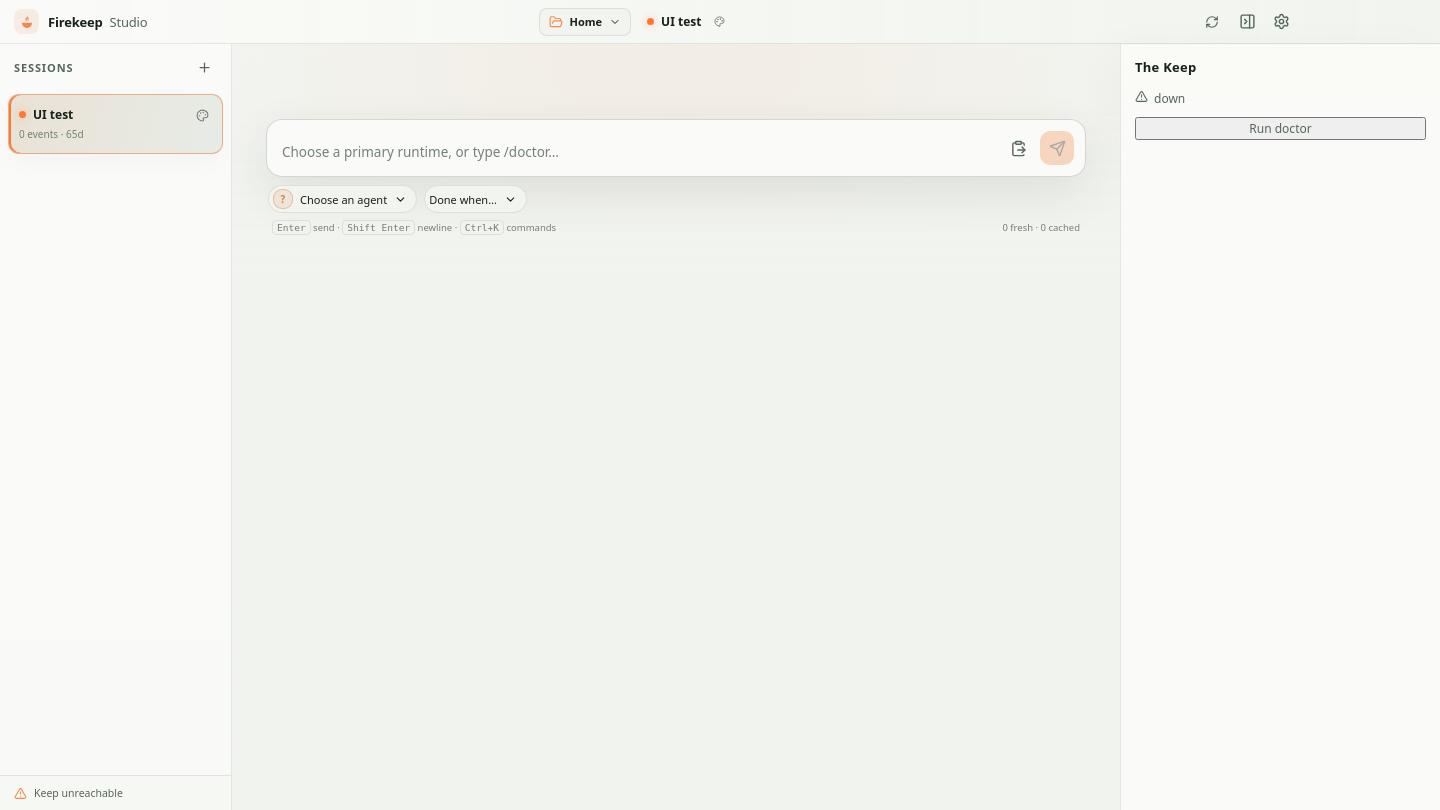
Test: Firekeep Studio renderer › keeps the Keep connection result card across tab switches and reopening, and shows failures as a card
The width and height of the screenshot is (1440, 810).
Click the button "Run doctor" at (1280, 128), box [1135, 117, 1426, 140]
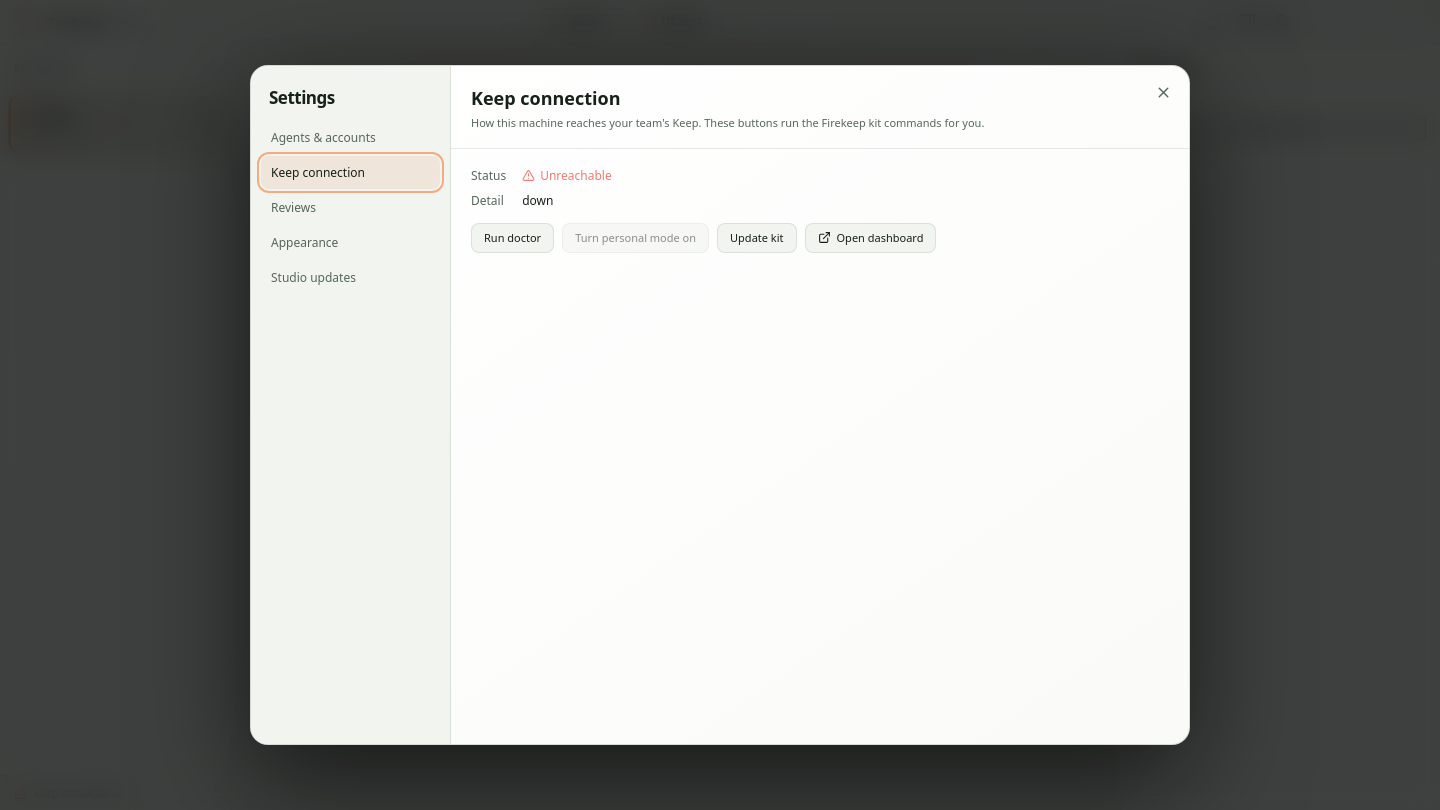
Click the button "Run doctor" at (513, 238), box [471, 222, 554, 252]
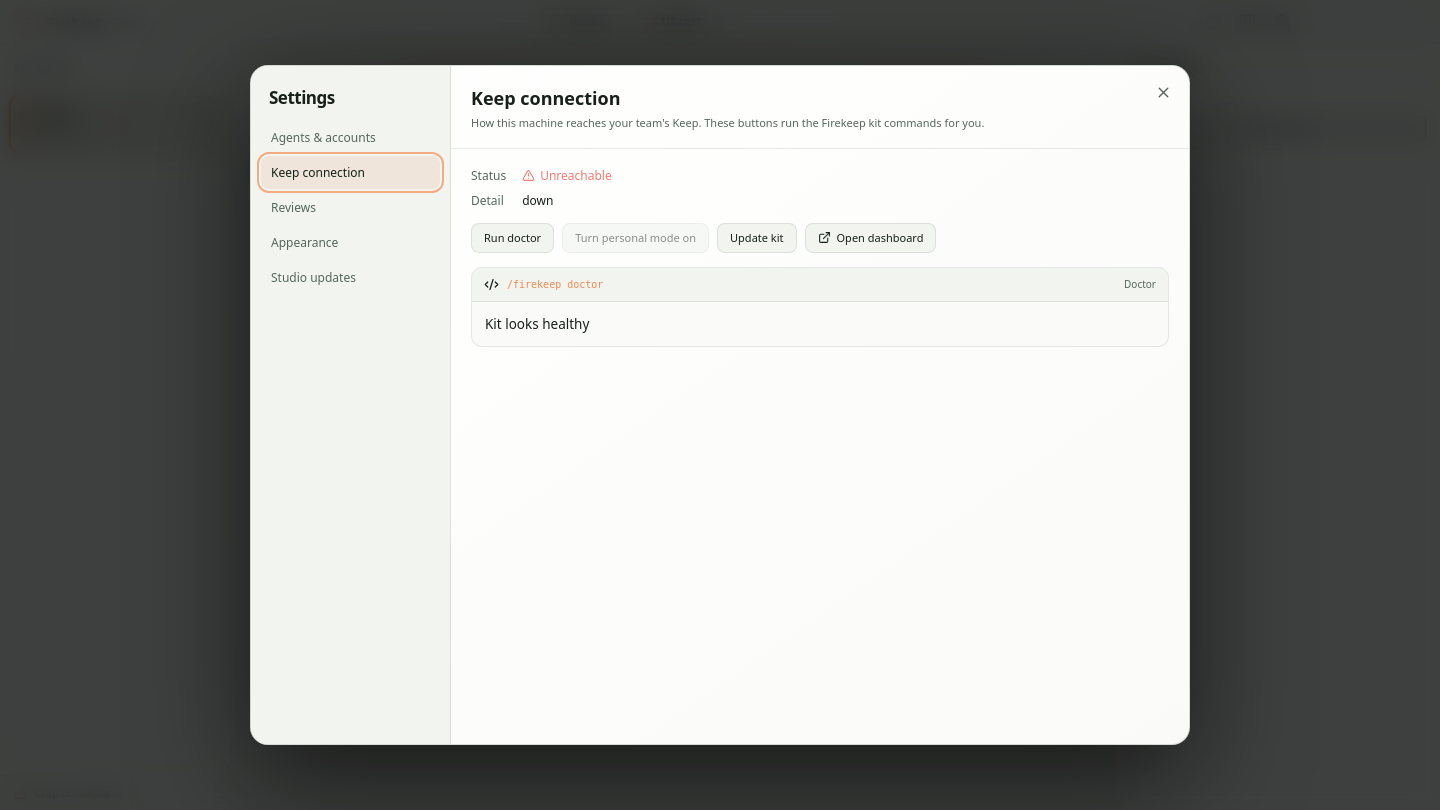
Expected: the text "Kit looks healthy" is shown, [485, 314, 589, 332]
Click the tab "Reviews" at (350, 208), box [261, 191, 440, 224]
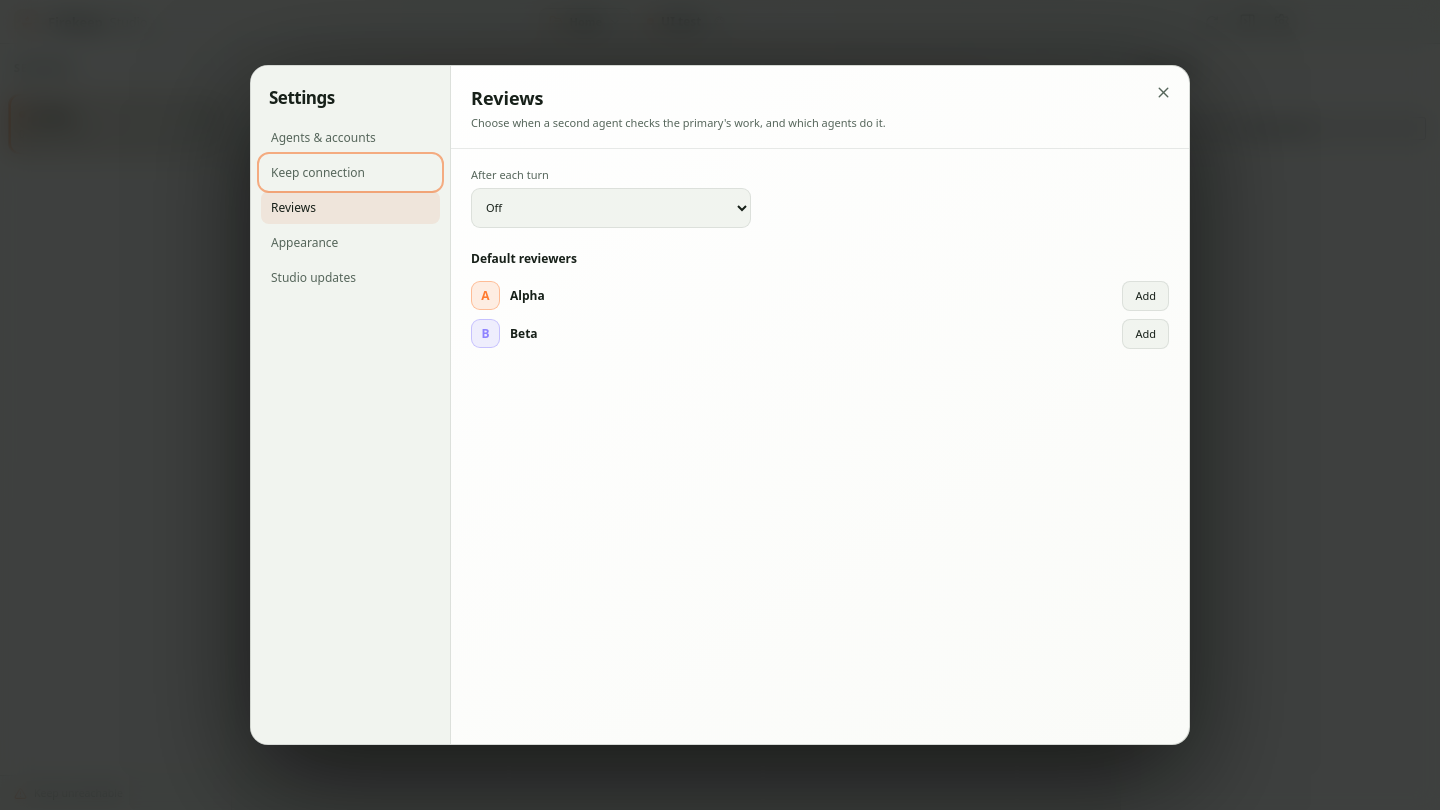
Click the tab "Keep connection" at (350, 172), box [261, 156, 440, 189]
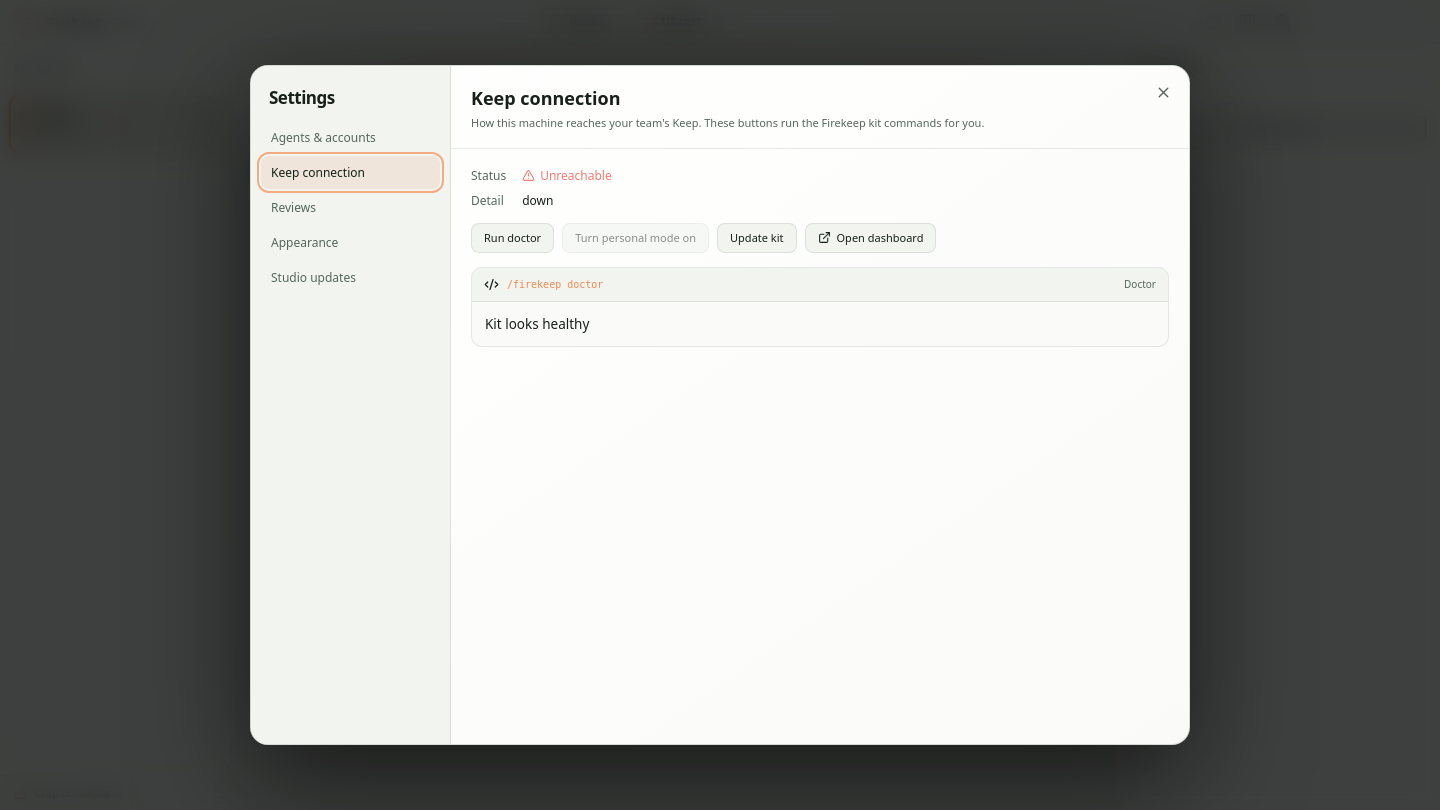
Expected: the text "Kit looks healthy" is shown, [485, 314, 589, 332]
Click the button named "Close Settings" at (1163, 92), box [1149, 78, 1177, 106]
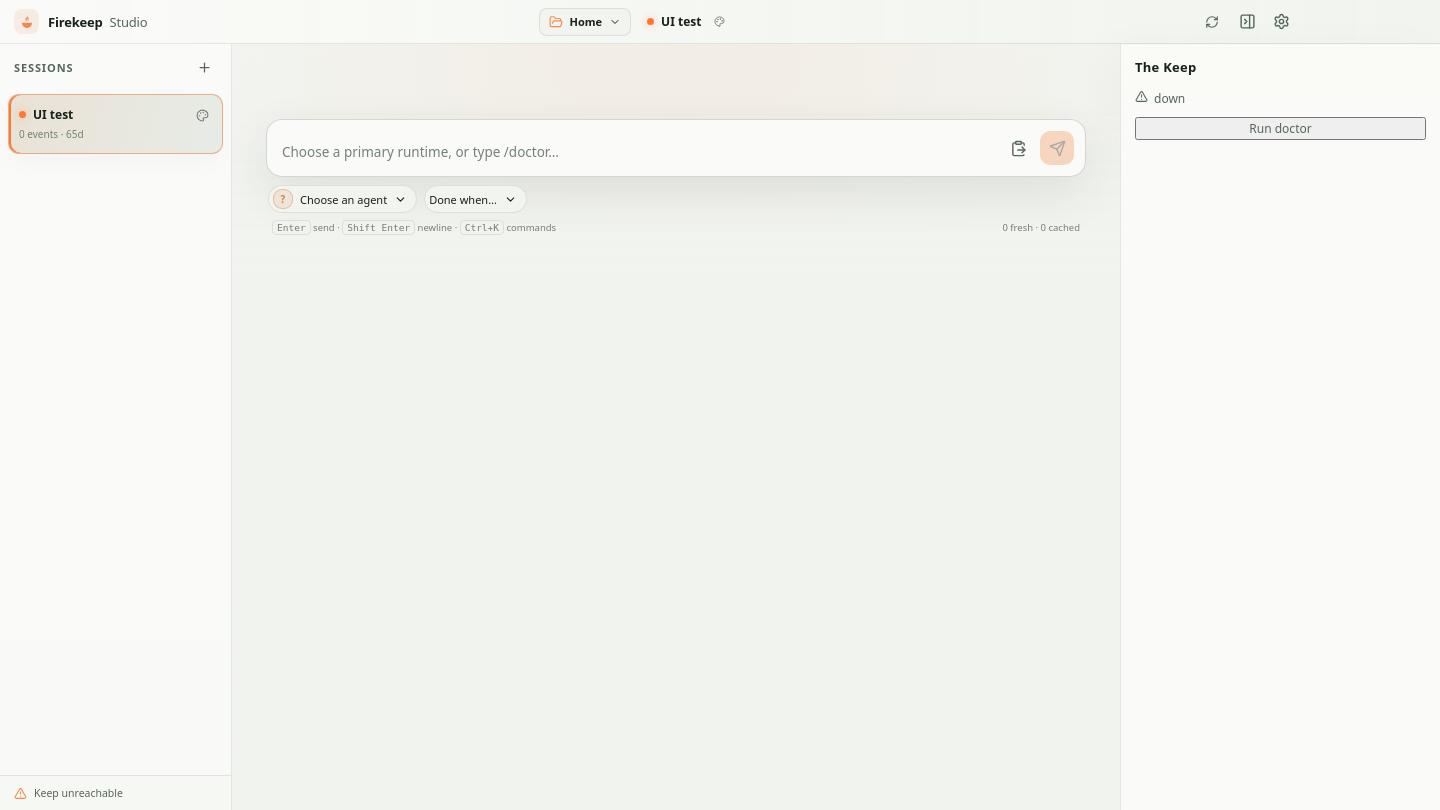
Click the button named "Settings" at (1281, 22), box [1266, 6, 1296, 36]
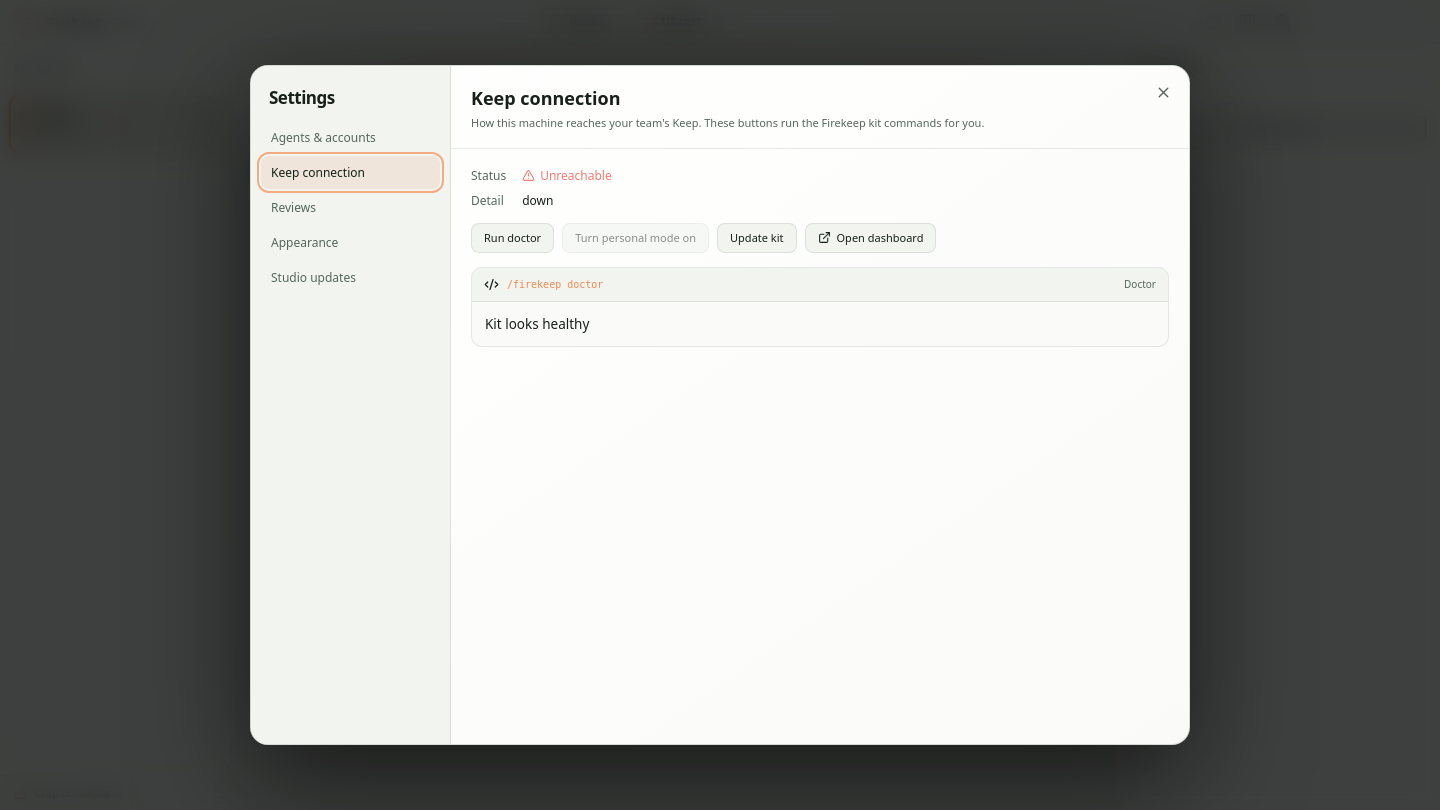
Expected: the text "Kit looks healthy" is shown, [485, 314, 589, 332]
